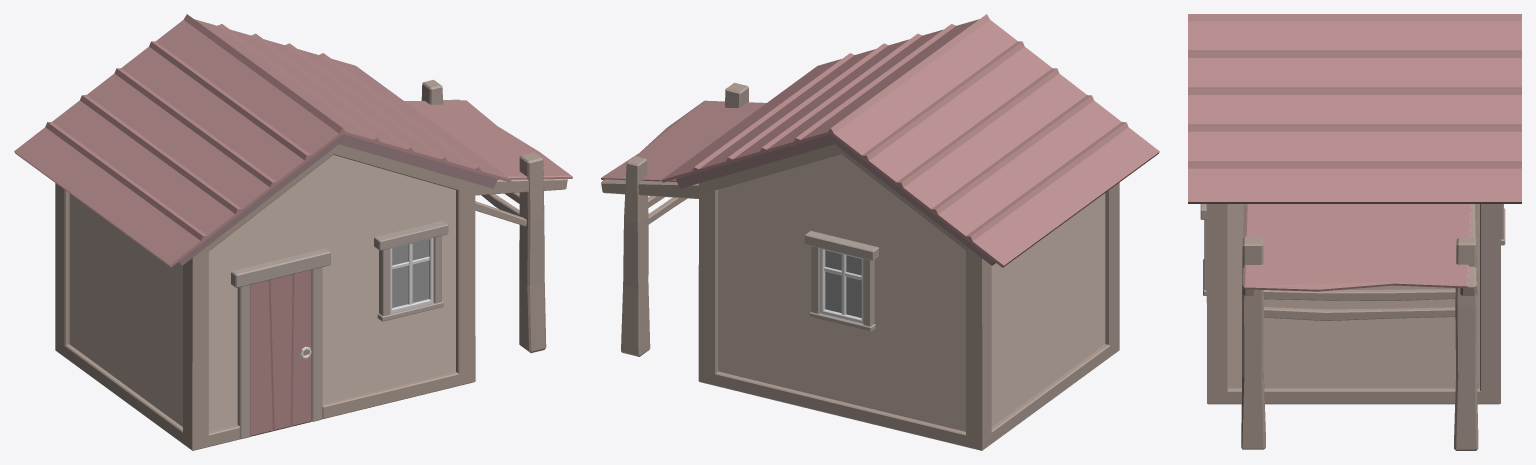
Rendered from fp_cabana_l1.glb.
3 renders of one model, left to right at view 1: azimuth 30°, elevation 25°; view 2: azimuth 150°, elevation 25°; view 3: azimuth 270°, elevation 25°, orthographic. The views are drawn at different scales.
Size of the model in its own units: 0.9 by 0.5906 by 0.5636.
